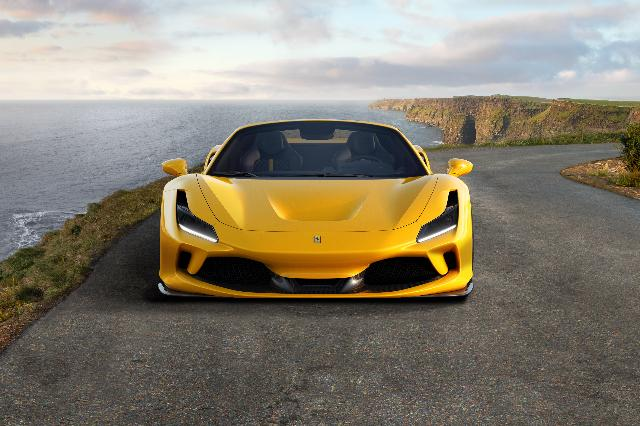ferrari: (158, 118, 474, 300)
